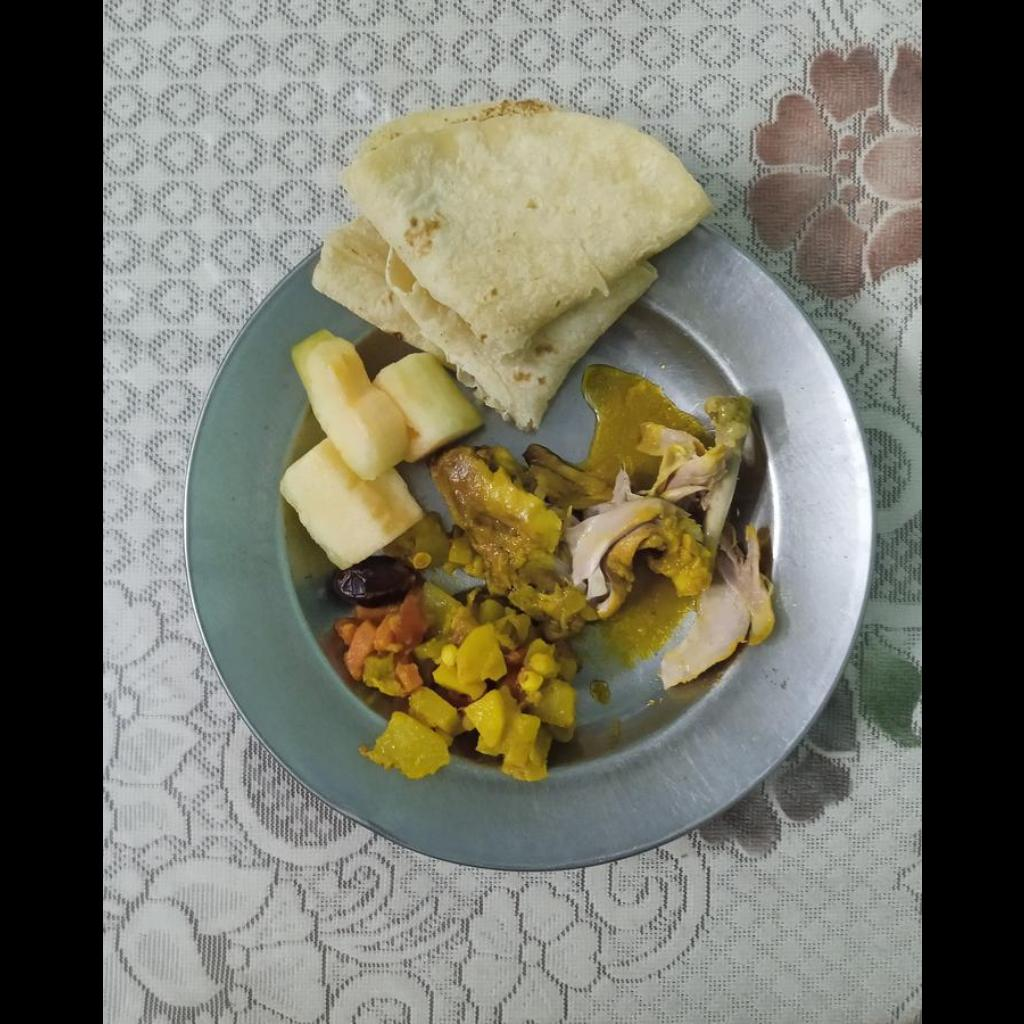chicken: (438, 410, 776, 674)
dates: (327, 555, 417, 606)
papaya: (279, 331, 481, 568)
ruti: (311, 104, 707, 426)
vegetable: (345, 596, 585, 773)
